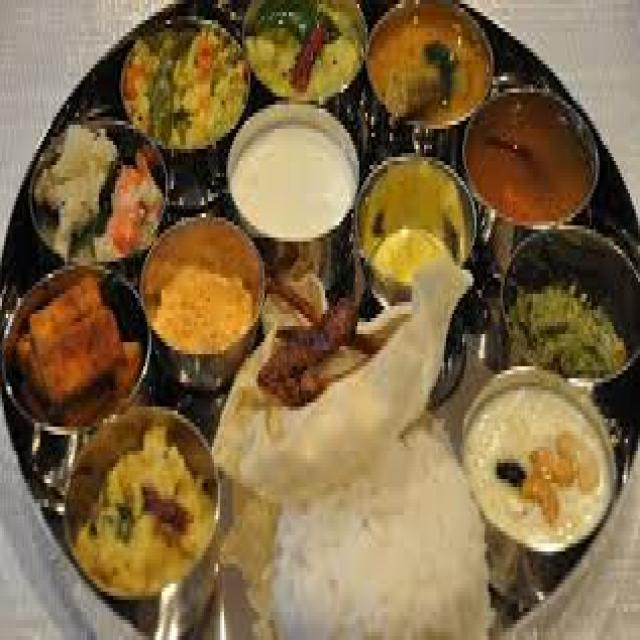curd: (231, 104, 359, 240)
dal: (371, 7, 492, 123)
papad: (215, 274, 472, 495)
rice: (270, 402, 478, 640)
sambar-rasam: (475, 79, 598, 223)
sweet: (478, 373, 601, 555)
veg: (83, 420, 212, 595)
